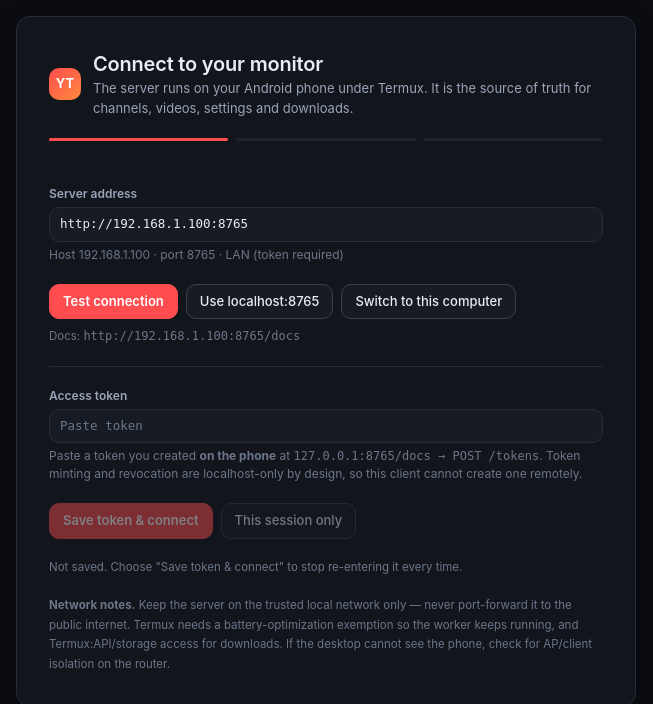
it: connection screen (vertical slice: pairing) › rejects an invalid address with a clear reason and disables Test connection
Type "ftp://nope" into the field labelled "Server address".
click(326, 224); type("ftp://nope")  # box [49,207,603,242]
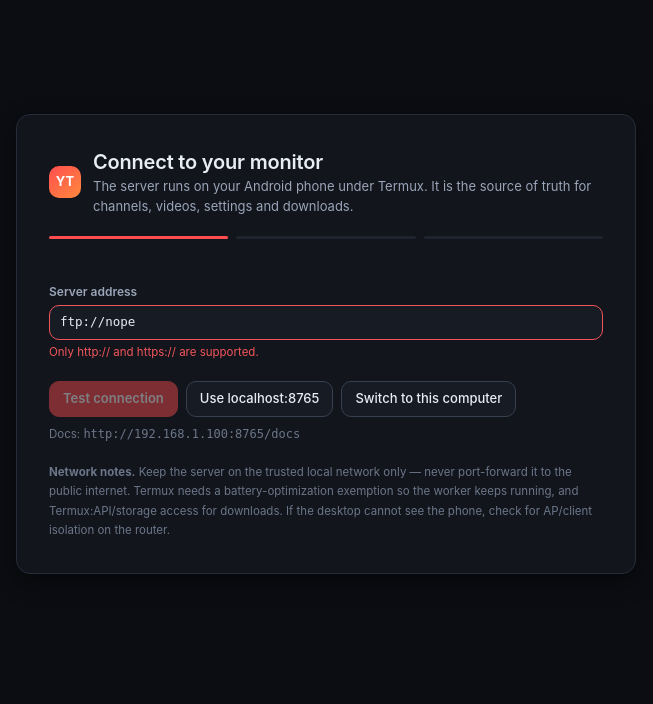
Expected: the text "Only http:// and https:// are supported." is shown, [49,345,259,359]
Expected: the button "Test connection" is disabled, [49,381,178,416]
